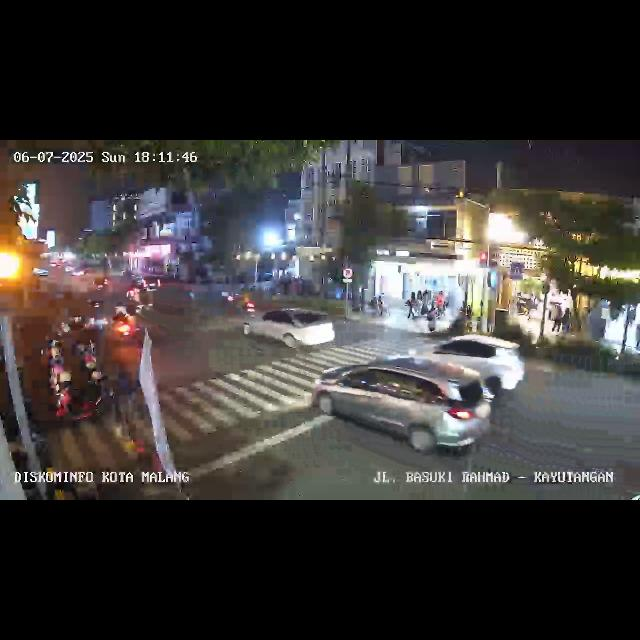car: (312, 352, 496, 458), (404, 334, 528, 396), (246, 306, 336, 354)
motorcycle: (126, 284, 144, 316), (240, 286, 256, 316)
person: (550, 302, 562, 336), (425, 305, 437, 335), (632, 310, 640, 352), (436, 290, 446, 320), (377, 292, 388, 318), (406, 292, 416, 320), (417, 289, 425, 319)
